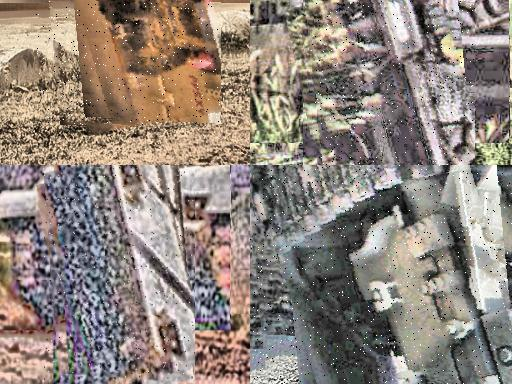tanks: (251, 166, 512, 384), (44, 166, 195, 381), (312, 1, 475, 166), (94, 1, 221, 127), (251, 114, 254, 122)
